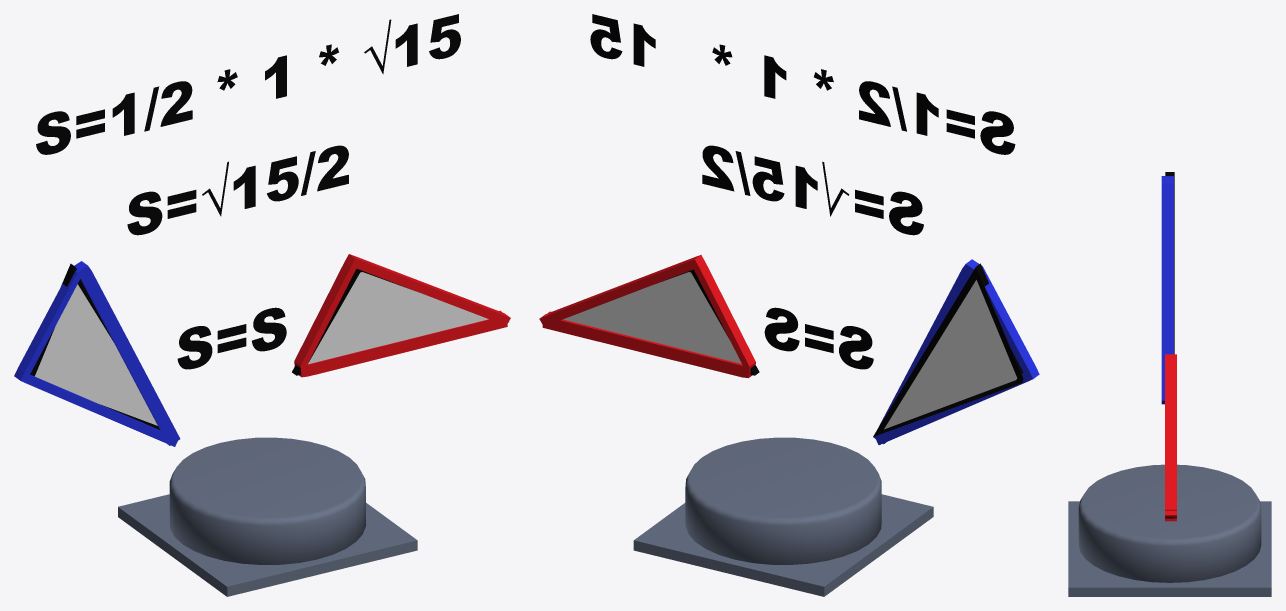
The picture shows the model from 3 angles, left to right: view 1: azimuth 30°, elevation 25°; view 2: azimuth 150°, elevation 25°; view 3: azimuth 270°, elevation 25°; orthographic projection. The views are drawn at different scales.
Visible parts, largest first — view 1: Cube; view 2: Cube; view 3: Cube.
Part boxes in pixels (x1,y1,x2,y2): Cube: (14,14,510,596); Cube: (539,14,1039,596); Cube: (1068,172,1271,596).
Bounding box in the file's own units: 23.62 × 22.2 × 9.09.
